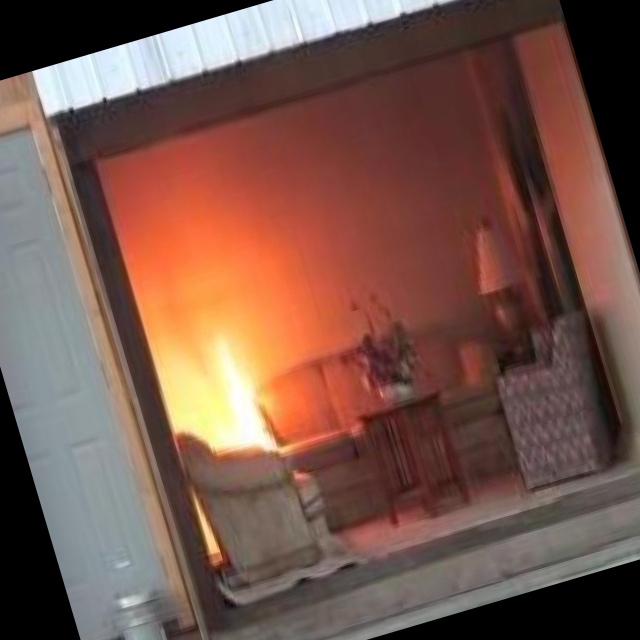fire: (163, 306, 298, 474)
